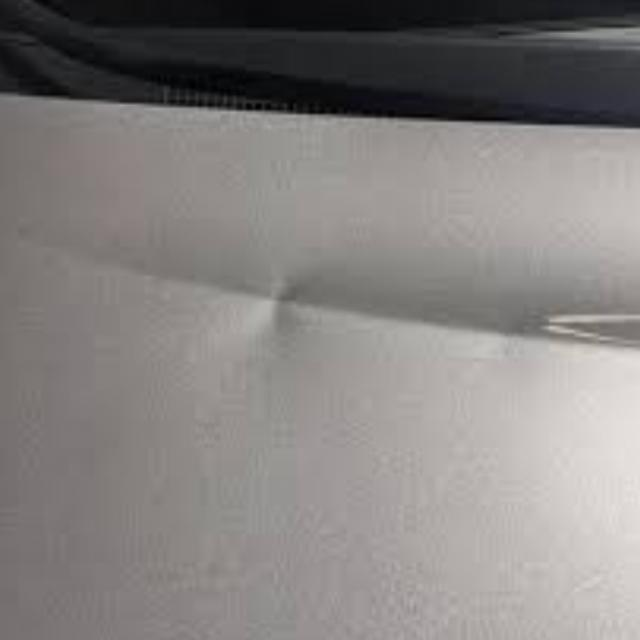dents: (235, 222, 332, 374)
